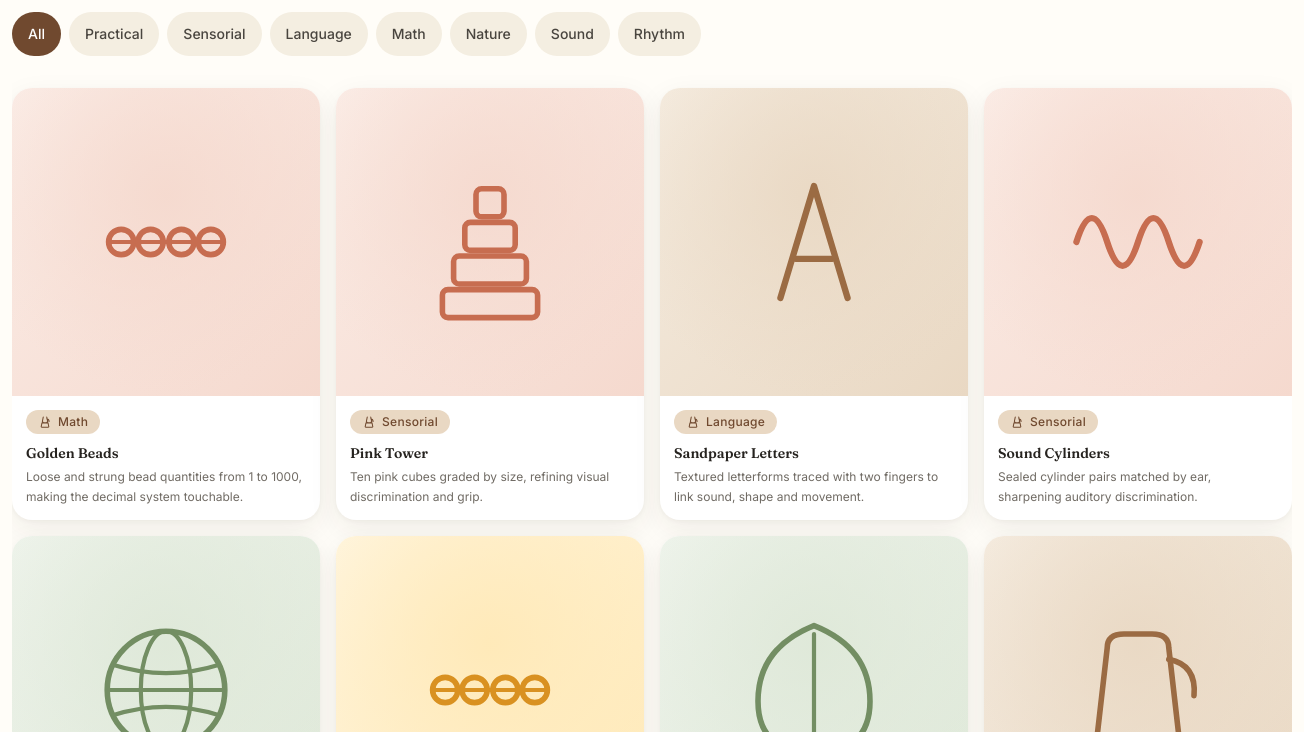
it: MaterialGallery › filters to one category when its button is pressed
Click the button "Language" at (319, 34), box [270,12,368,56]
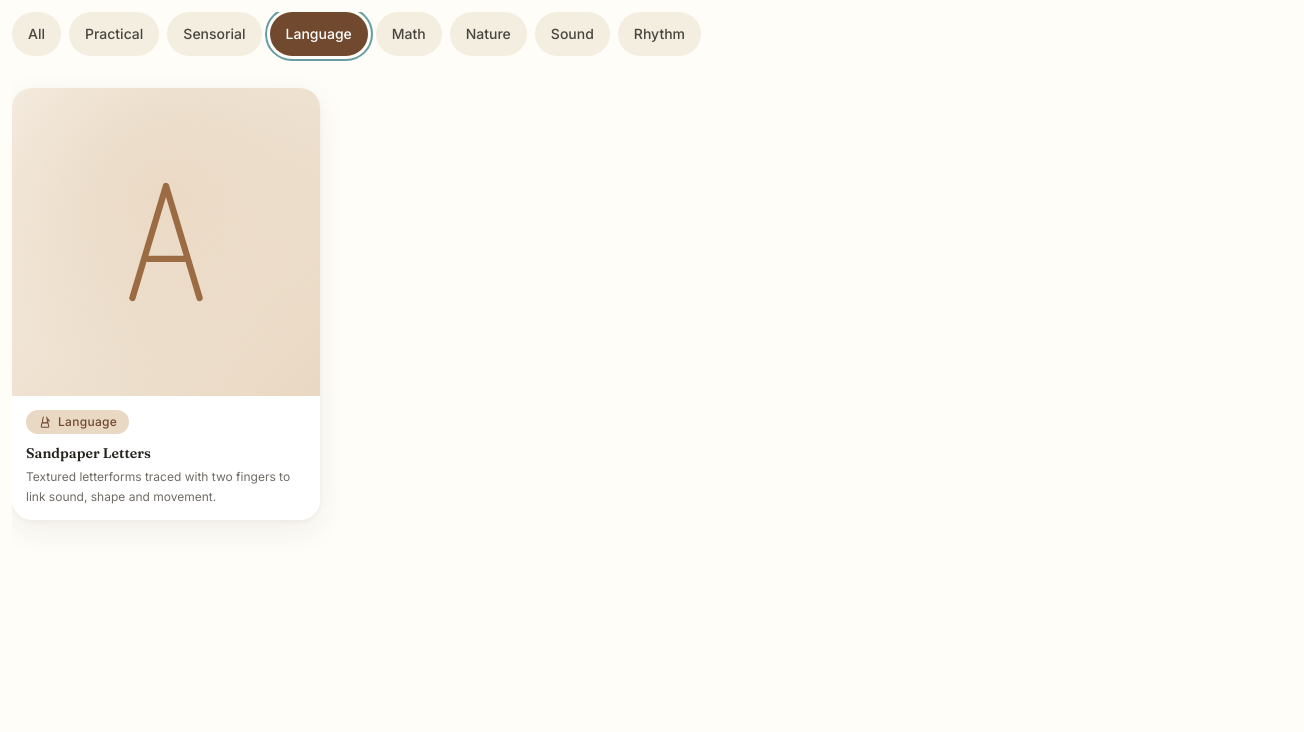
Expected: the heading "Sandpaper Letters" is shown, [26,444,151,462]
Expected: the heading "Golden Beads" is gone
